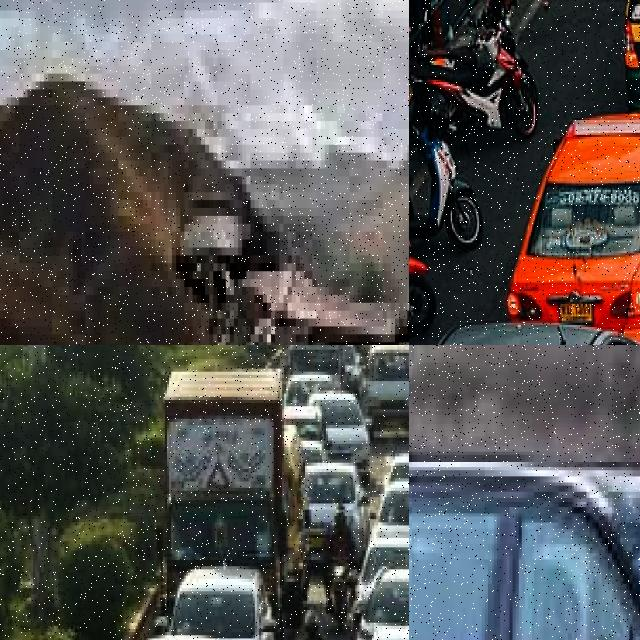bike: (155, 0, 409, 345), (411, 38, 543, 144), (409, 111, 485, 249), (409, 227, 440, 345)
car: (409, 368, 640, 640), (506, 108, 640, 345), (409, 316, 640, 345)
